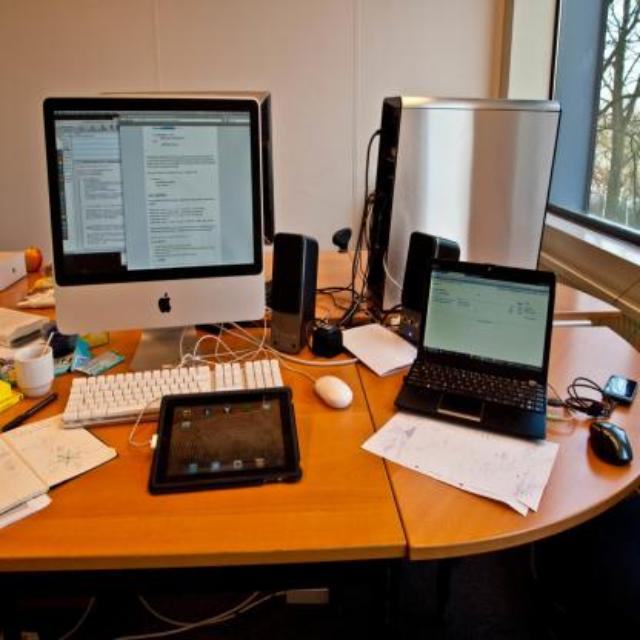Flat-Panel-Monitor: (34, 98, 266, 342)
Laptop: (399, 258, 559, 440)
